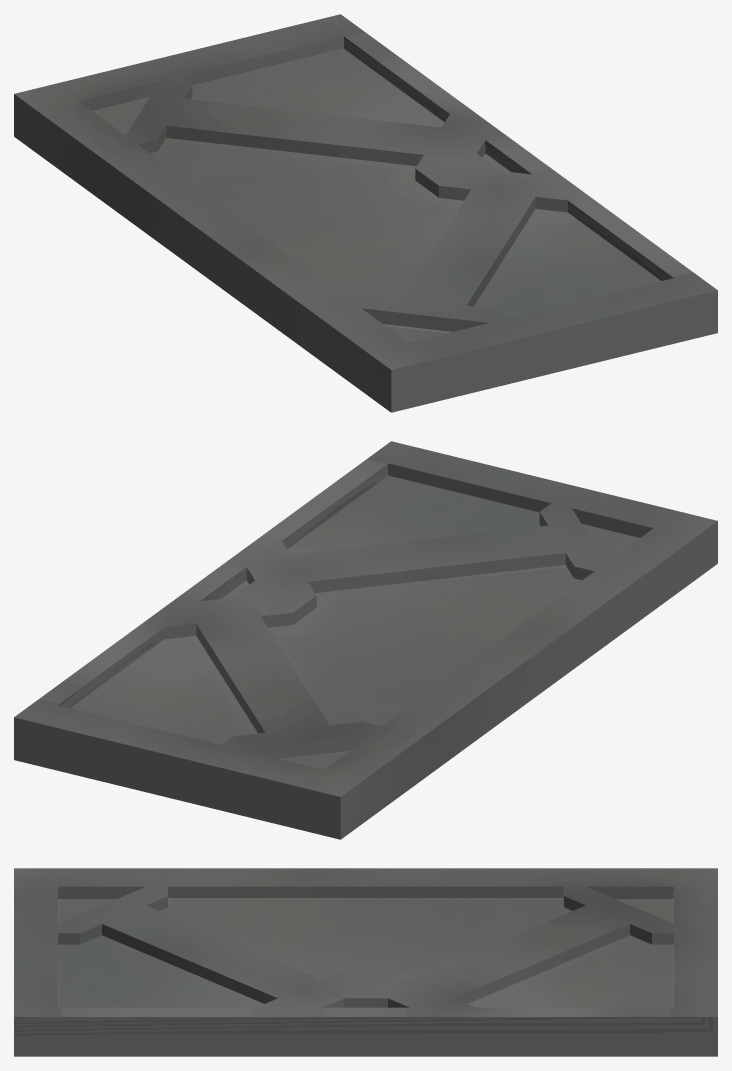
The model's file is wall99.glb.
3 views of the same model, one above another, from view 1: azimuth 30°, elevation 25°; view 2: azimuth 150°, elevation 25°; view 3: azimuth 270°, elevation 25° (orthographic). The views are drawn at different scales.
Visible parts, largest first — view 1: Cube.001; view 2: Cube.001; view 3: Cube.001.
Boxes of the visible parts, x1,y1,x2,y2 form: Cube.001: (14,14,717,412); Cube.001: (14,441,717,839); Cube.001: (14,868,717,1056).
Bounding box in the file's own units: 1 × 0.125 × 2.
Materials: 1 (1 with a texture image).
